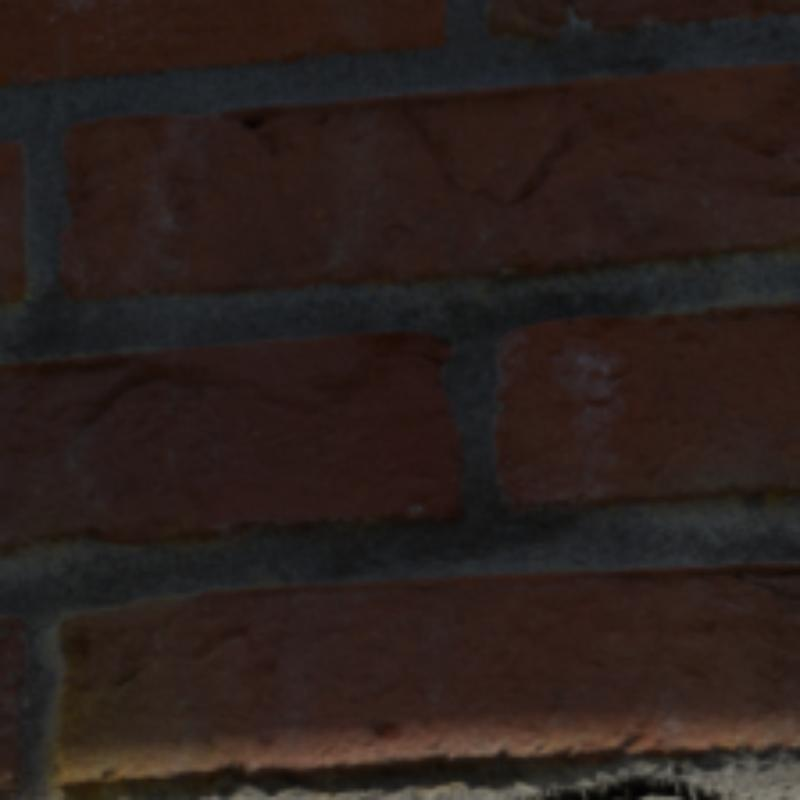pothole: (532, 775, 718, 796)
